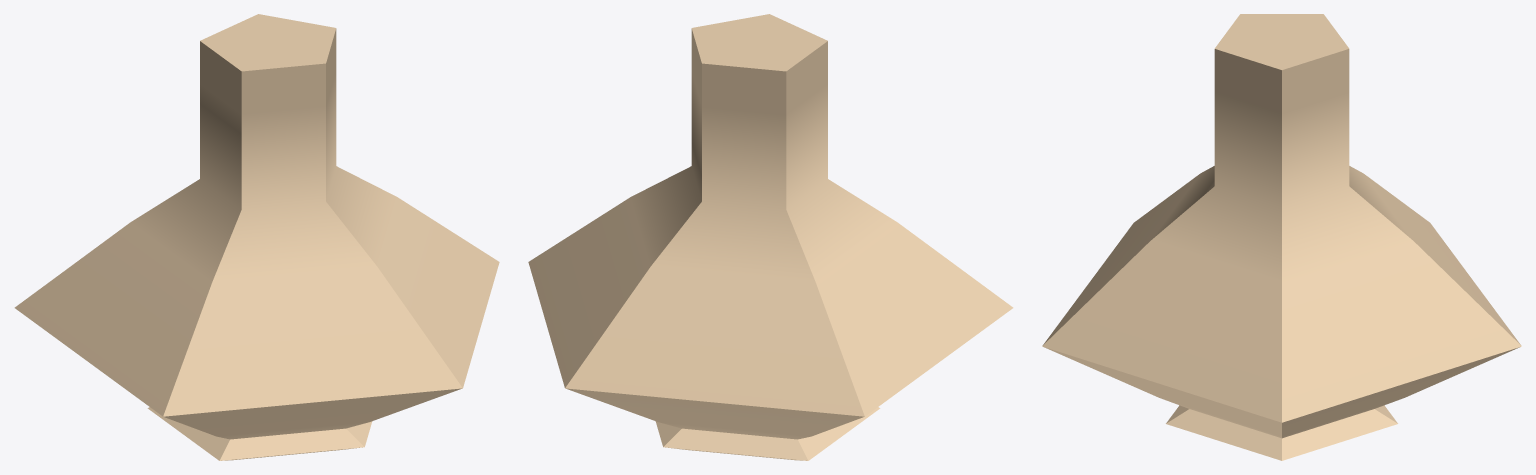
Rendered from Props_jar_03.fbx.
3 renders of one model, left to right at view 1: azimuth 30°, elevation 25°; view 2: azimuth 150°, elevation 25°; view 3: azimuth 270°, elevation 25°, orthographic.
Visible parts, largest first — view 1: jar8; view 2: jar8; view 3: jar8.
Boxes of the visible parts, bbox=[...] form: jar8: bbox=[14, 14, 499, 460]; jar8: bbox=[528, 14, 1013, 460]; jar8: bbox=[1042, 14, 1521, 460].
Size of the model in its own units: 78.51 by 69.54 by 79.64.
